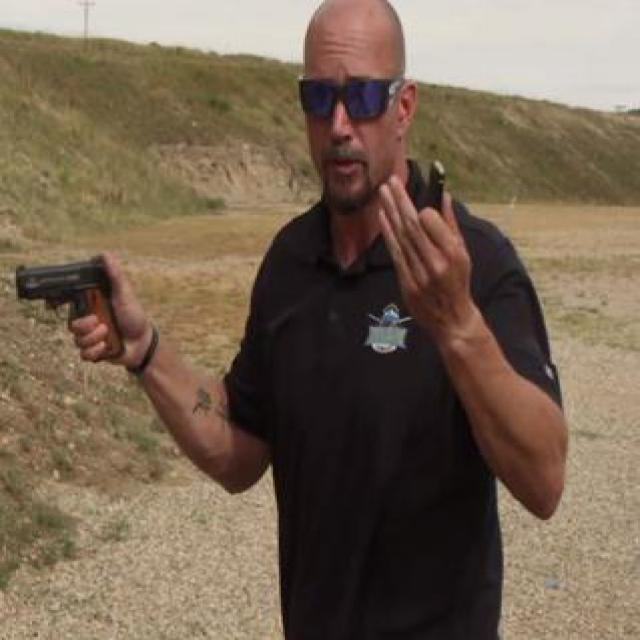gun: (10, 248, 124, 364)
